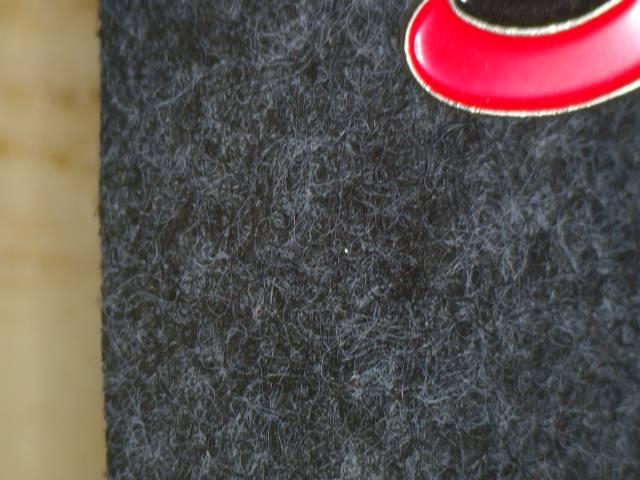Red-Hat: (379, 0, 640, 166)
